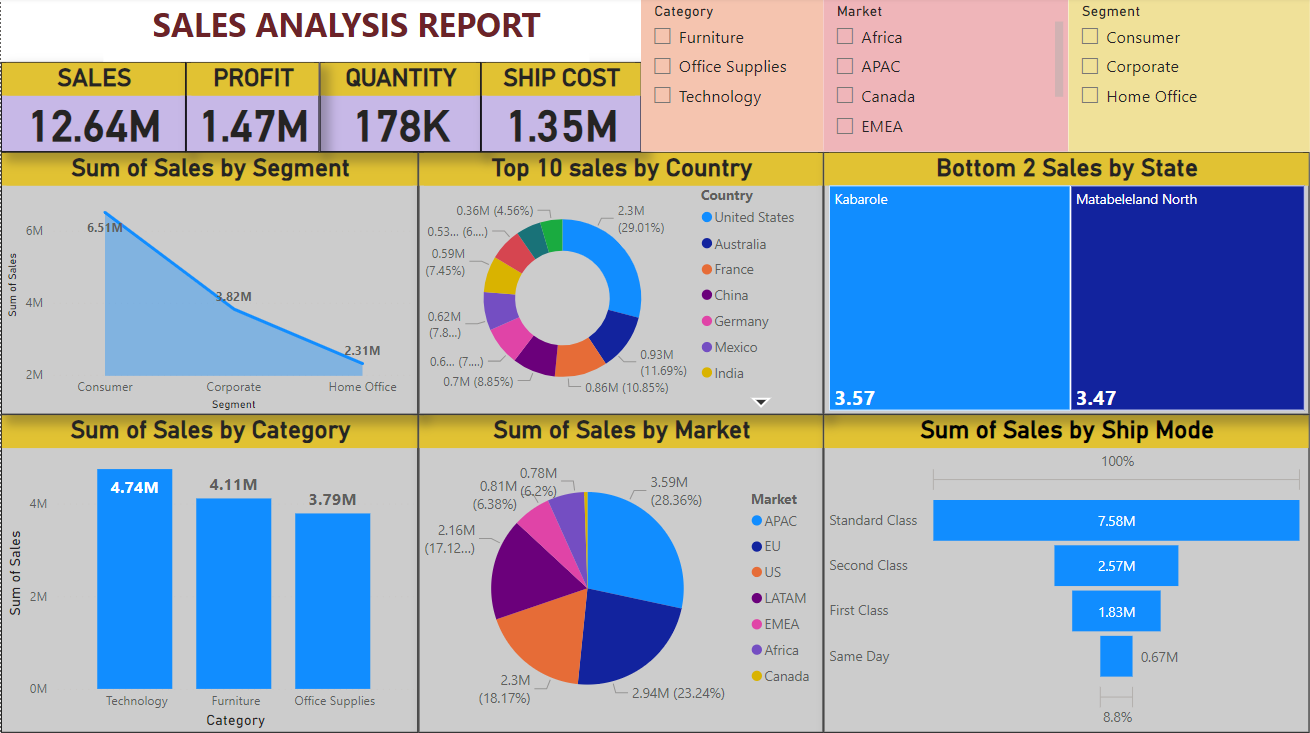

This screenshot's page, from the dashboard's own definition file:
{"tool":"powerbi","page":{"name":"Page 1","canvas":[1280,720],"ordinal":0},"visuals":[{"type":"columnChart","fields":{"Category":["Orders.Category"],"Y":["Sum(Orders.Sales)"]},"box":[0,408.3,408.3,311.5],"z":0},{"type":"pieChart","fields":{"Category":["Orders.Market"],"Y":["Sum(Orders.Sales)"]},"box":[408.3,408.3,396.2,311.5],"z":1000},{"type":"funnel","fields":{"Category":["Orders.Ship Mode"],"Y":["Sum(Orders.Sales)"]},"box":[804.6,408.3,474.9,311.5],"z":2000},{"type":"areaChart","fields":{"Category":["Orders.Segment"],"Y":["Sum(Orders.Sales)"]},"box":[0,151.2,408.3,257.1],"z":3000},{"type":"donutChart","title":"Top 10 sales by Country","fields":{"Category":["Orders.Country"],"Y":["Sum(Orders.Sales)"]},"box":[408.3,151.2,396.2,257.1],"z":4000},{"type":"treemap","title":"Bottom 2 Sales by State","fields":{"Values":["Sum(Orders.Sales)"],"Group":["Orders.State"]},"box":[804.6,151.2,474.9,257.1],"z":5000},{"type":"card","title":"SALES","fields":{"Values":["Sum(Orders.Sales)"]},"box":[0,63.6,180.9,88],"z":6000},{"type":"card","title":"QUANTITY","fields":{"Values":["Sum(Orders.Quantity)"]},"box":[311.7,63.6,157.7,88],"z":7000},{"type":"card","title":"SHIP COST","fields":{"Values":["Sum(Orders.Shipping Cost)"]},"box":[469.4,63.6,156.5,88],"z":8000},{"type":"slicer","fields":{"Values":["Orders.Category"]},"box":[626.1,0,178.5,151.2],"z":9000},{"type":"slicer","fields":{"Values":["Orders.Market"]},"box":[804.3,0,239.6,151.6],"z":10000},{"type":"slicer","fields":{"Values":["Orders.Segment"]},"box":[1043.5,0,235.9,151.2],"z":11000},{"type":"card","title":"PROFIT","fields":{"Values":["Sum(Orders.Profit)"]},"box":[180.9,63.6,130.8,88],"z":12000},{"type":"textbox","box":[100.2,0,475.5,63.6],"z":13000}]}

Visuals, with their boxes in screenshot pixels (x1, y1, x2, y2), scaled from the page's 1280x720 canvas onto the 1310x733 screenshot:
columnChart - Orders.Category x Sum(Orders.Sales): 0:416:418:732
pieChart - Orders.Market x Sum(Orders.Sales): 418:416:823:732
funnel - Orders.Ship Mode x Sum(Orders.Sales): 823:416:1309:732
areaChart - Orders.Segment x Sum(Orders.Sales): 0:154:418:416
"Top 10 sales by Country" donutChart: 418:154:823:416
"Bottom 2 Sales by State" treemap: 823:154:1309:416
"SALES" card: 0:65:185:154
"QUANTITY" card: 319:65:480:154
"SHIP COST" card: 480:65:641:154
slicer - Orders.Category: 641:0:823:154
slicer - Orders.Market: 823:0:1068:154
slicer - Orders.Segment: 1068:0:1309:154
"PROFIT" card: 185:65:319:154
textbox: 103:0:589:65
